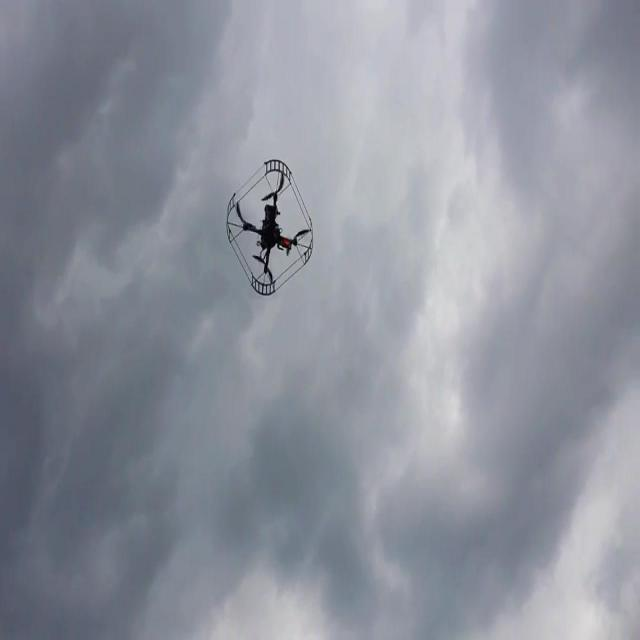UAV: (225, 158, 314, 296)
